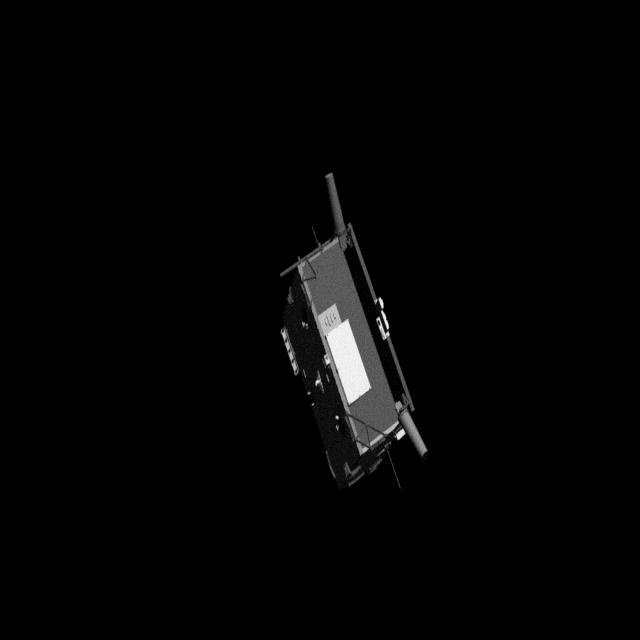medium_debris: (254, 164, 432, 492)
